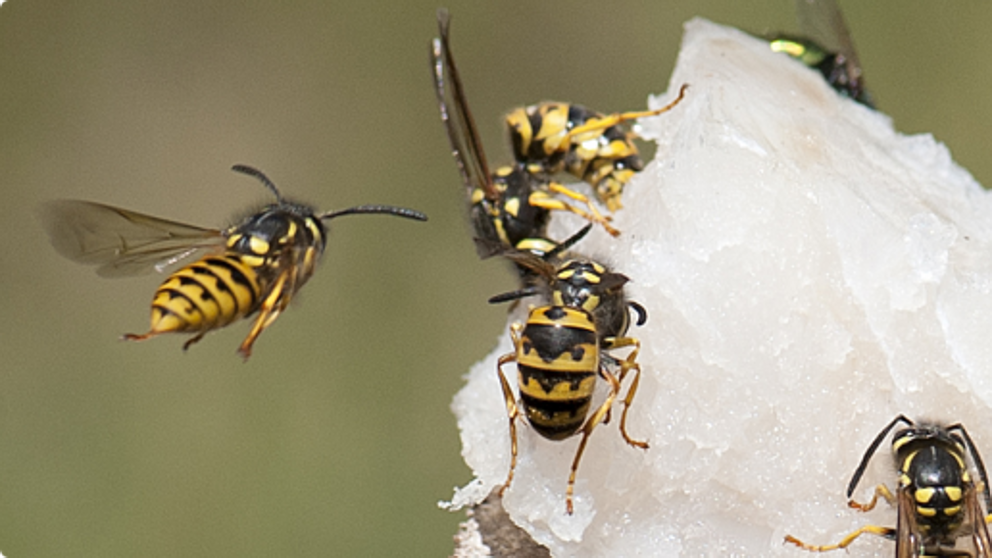chax: (35, 150, 426, 366), (429, 15, 685, 252), (447, 247, 666, 501), (840, 409, 991, 557)
